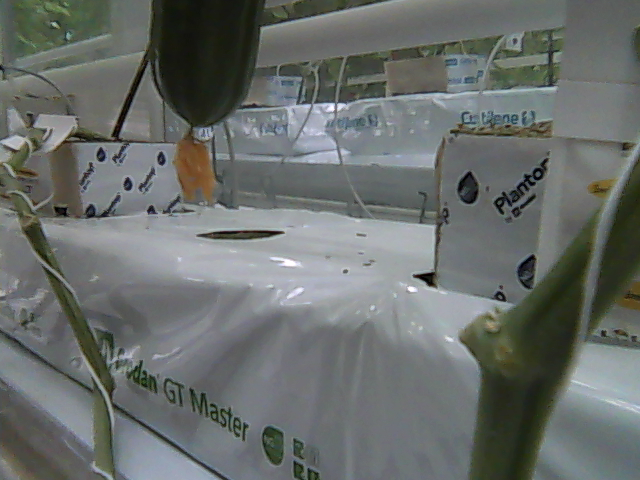concombre: (147, 1, 268, 202)
